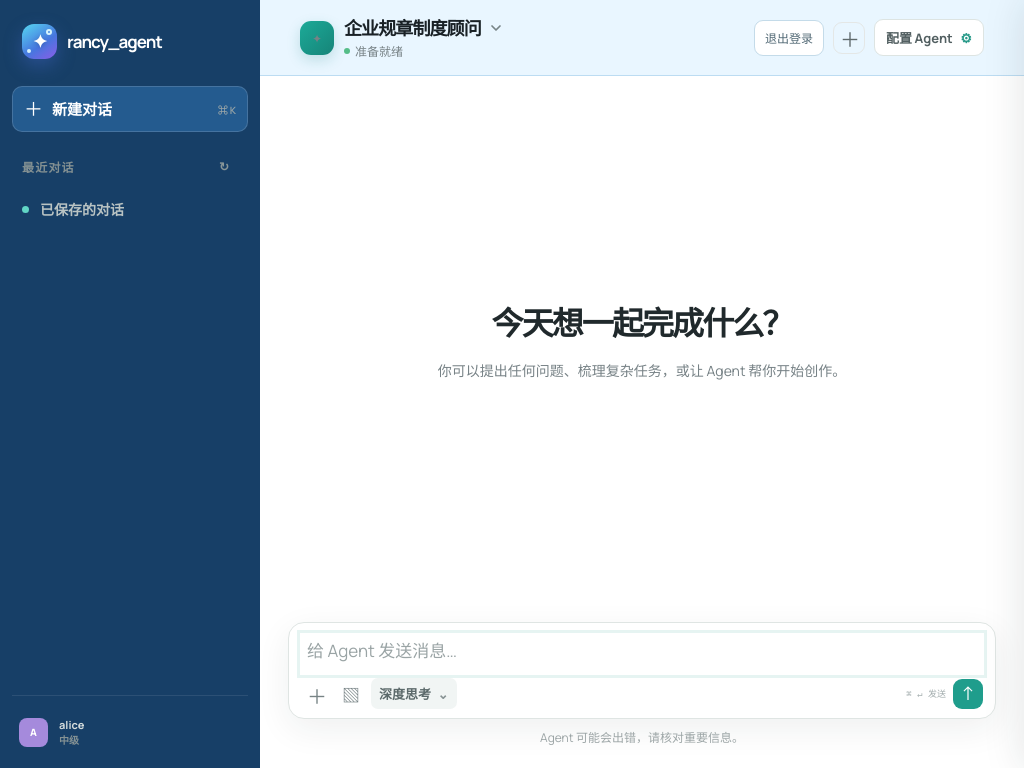
Test case: posts a message via Ctrl+Enter and renders streamed Markdown, plan, and search sources
The width and height of the screenshot is (1024, 768).
Expected: the button "退出登录" is shown, [754,20,824,56]
Step 1. Type "报销需要什么" into the text box named "消息内容" → [642, 654], box [300,633,984,675]
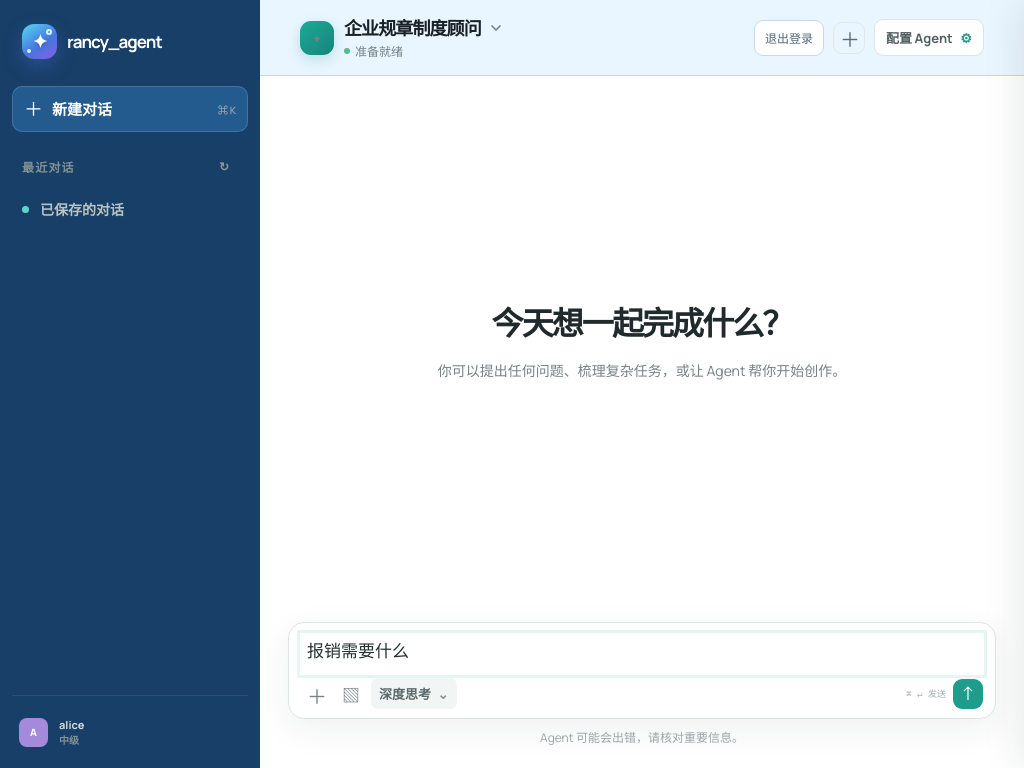
Step 2. Press Enter in the text box named "消息内容", box [300,633,984,675]
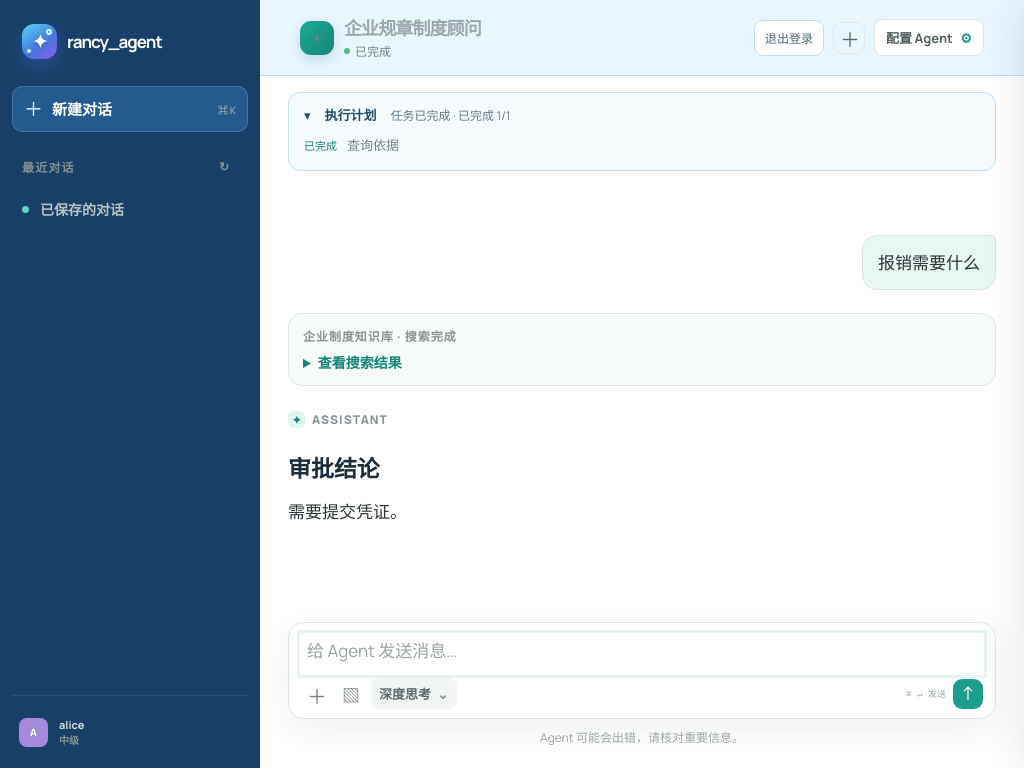
Result: the heading "审批结论" is shown at [288,453,380,484]
Result: the text "任务已完成 · 已完成 1/1" is shown at [390,106,510,124]
Step 3. Click the heading "查看搜索结果" → [352, 362], box [303,352,402,372]
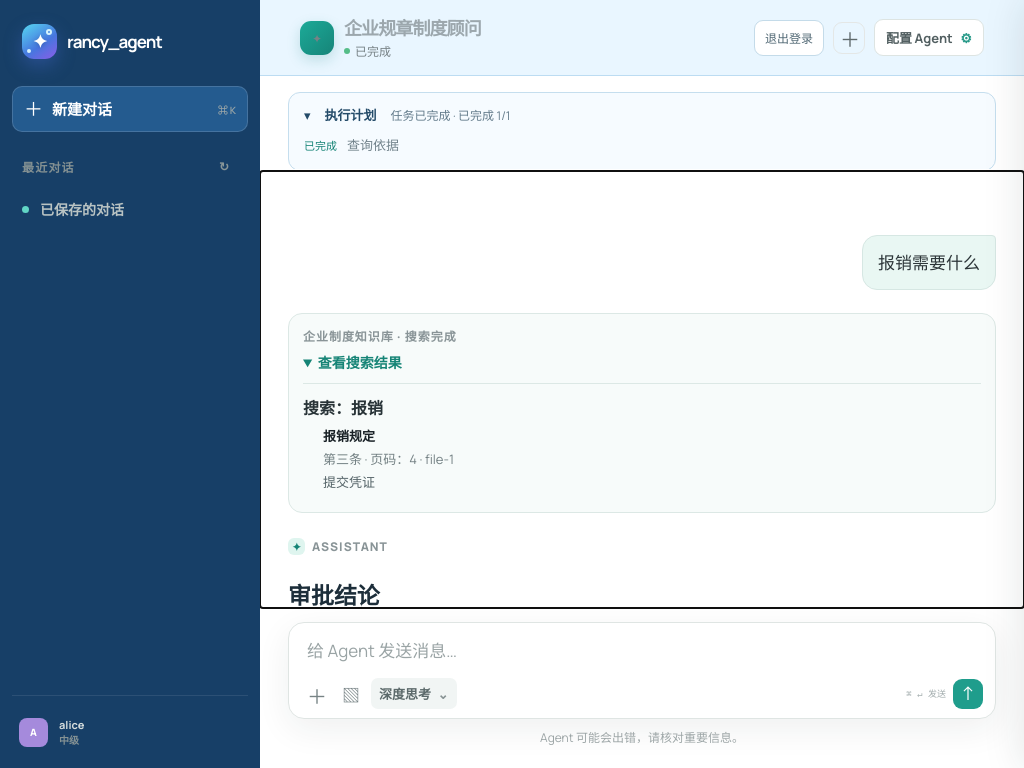
Result: the text box named "消息内容" is empty at [300,633,984,675]
Result: the text "报销规定" is shown at [323,427,375,445]
Result: the text "第三条 · 页码：4 · file-1" is shown at [323,450,454,468]
